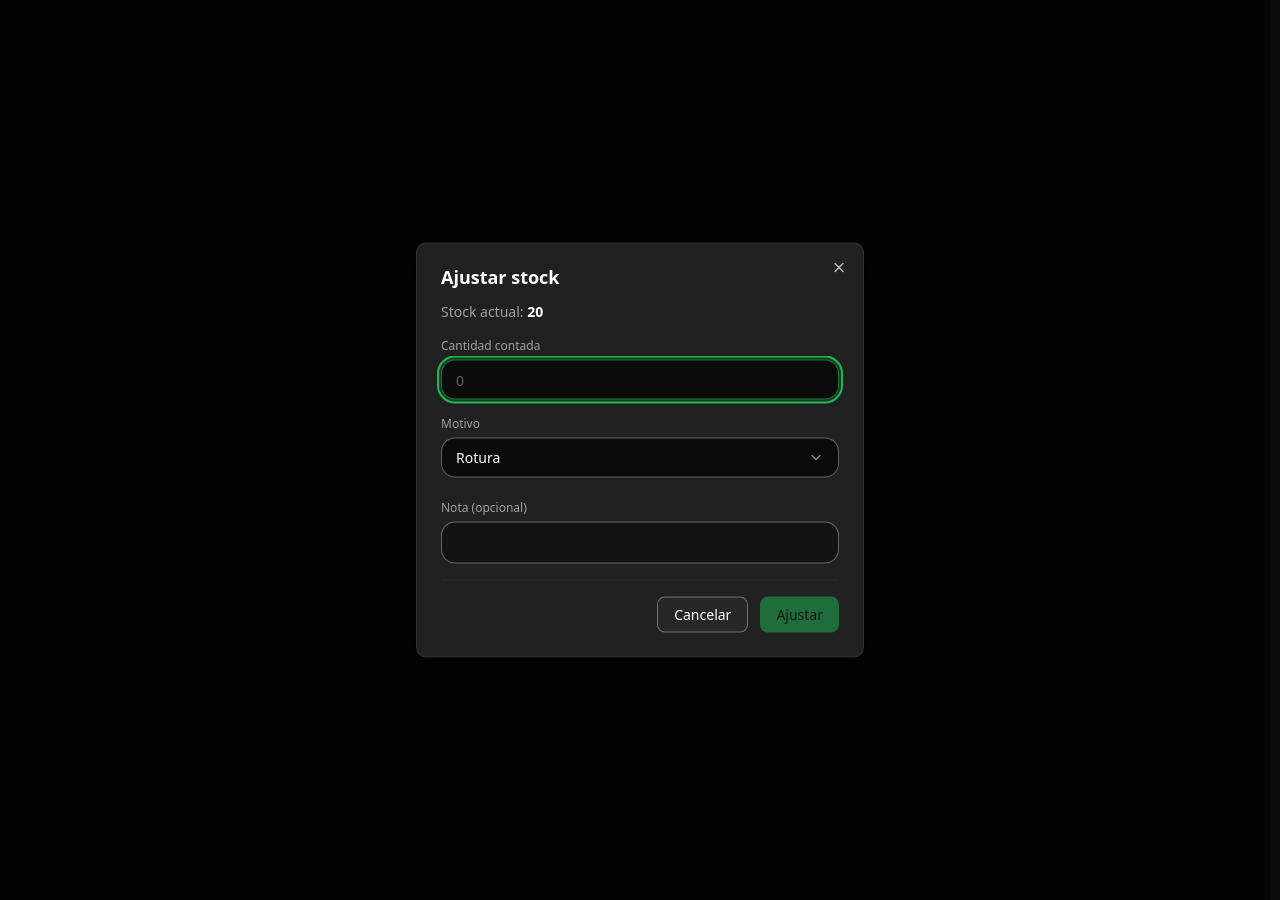
Scenario: AdjustDialog — computed difference › disables submit when the counted quantity equals current stock (0 difference is not a real adjustment)
Type "20" into the number field labelled "Cantidad contada" at [640, 380], box [441,360,839,400]
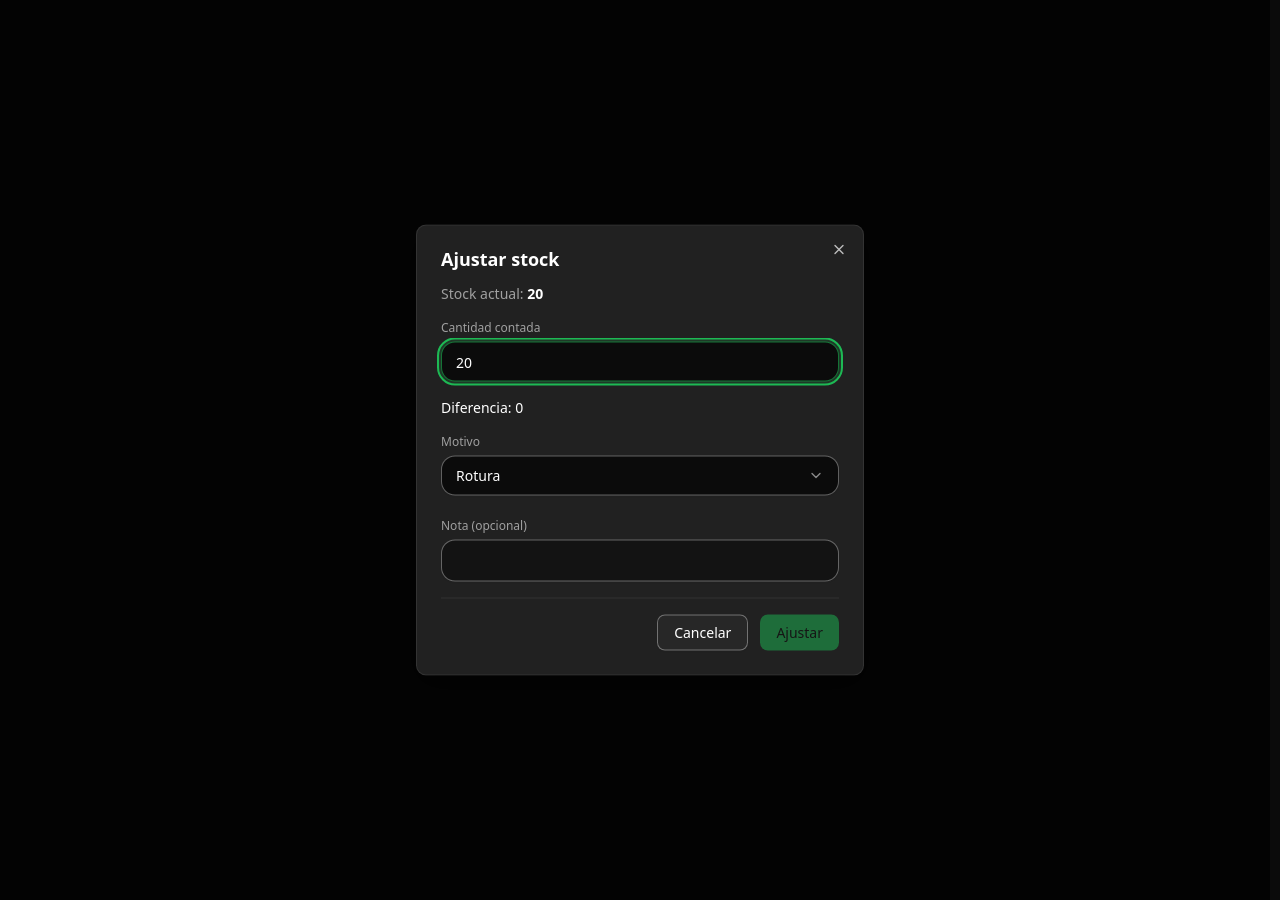
Expected: the button "Ajustar" is disabled, [760,614,839,650]
Result: the element with test id "adjust-difference" shows "0" at [515,398,523,416]
